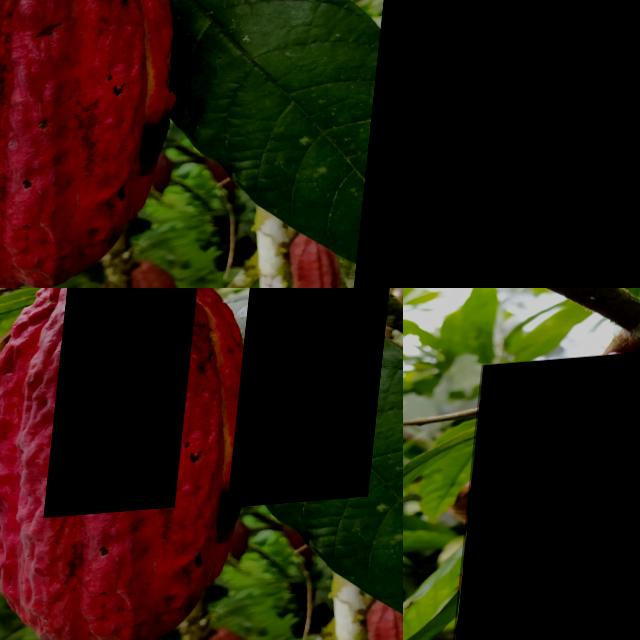Fitoftora: (237, 288, 403, 514), (134, 604, 187, 640)
Sana: (403, 0, 640, 288), (451, 351, 640, 640), (53, 288, 205, 521)
